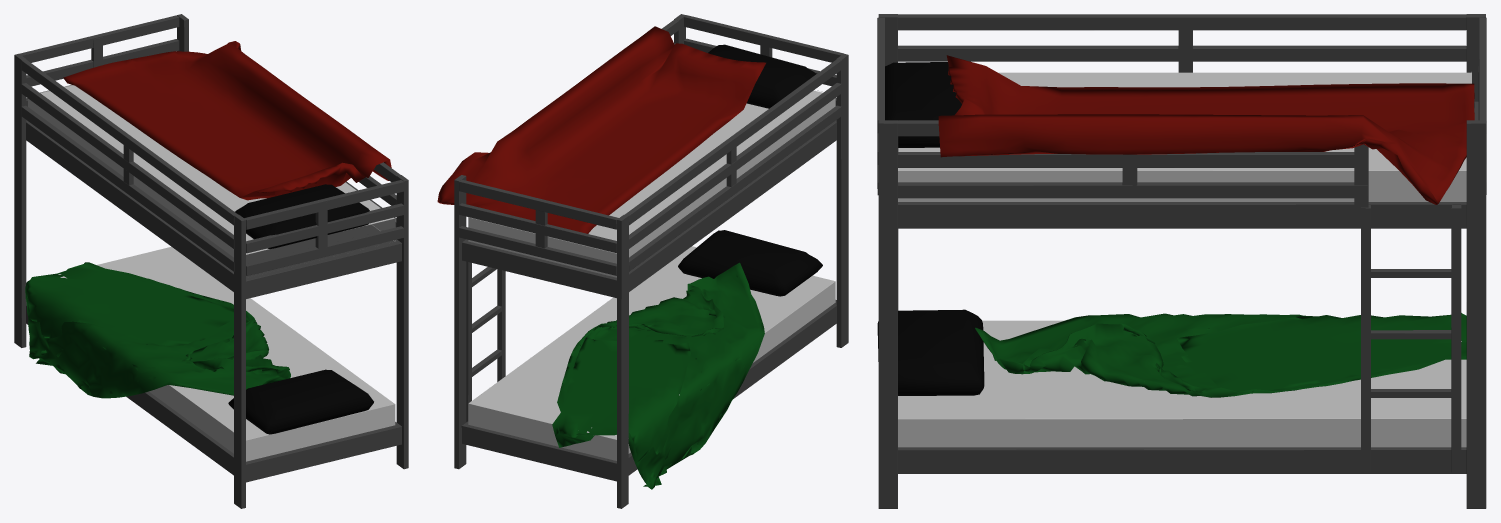
The model's file is couvertures.glb.
3 views of the same model, side by side, from view 1: azimuth 30°, elevation 25°; view 2: azimuth 150°, elevation 25°; view 3: azimuth 270°, elevation 25° (orthographic). The views are drawn at different scales.
Visible parts, largest first — view 1: Beds.003, Plane, Plane.003, Beds.001, Beds.002, Bed_Material #87_0.002, Bed_Material #87_0.001; view 2: Beds.003, Plane, Plane.003, Beds.001, Beds.002, Bed_Material #87_0.002, Bed_Material #87_0.001; view 3: Beds.003, Plane, Beds.001, Plane.003, Beds.002, Bed_Material #87_0.002, Bed_Material #87_0.001.
Part boxes in pixels (bbox=[...]): Beds.003: bbox=[14, 14, 408, 508]; Plane: bbox=[63, 41, 391, 200]; Plane.003: bbox=[25, 262, 290, 398]; Beds.001: bbox=[58, 246, 394, 453]; Beds.002: bbox=[28, 85, 394, 257]; Bed_Material #87_0.002: bbox=[228, 369, 373, 434]; Bed_Material #87_0.001: bbox=[235, 184, 369, 248]; Beds.003: bbox=[454, 14, 848, 508]; Plane: bbox=[437, 26, 765, 233]; Plane.003: bbox=[552, 262, 764, 489]; Beds.001: bbox=[468, 246, 835, 460]; Beds.002: bbox=[468, 90, 835, 277]; Bed_Material #87_0.002: bbox=[678, 230, 822, 296]; Bed_Material #87_0.001: bbox=[708, 44, 815, 108]; Beds.003: bbox=[877, 14, 1486, 508]; Plane: bbox=[938, 55, 1474, 204]; Beds.001: bbox=[898, 320, 1466, 447]; Plane.003: bbox=[975, 313, 1466, 397]; Beds.002: bbox=[898, 72, 1471, 201]; Bed_Material #87_0.002: bbox=[877, 309, 984, 395]; Bed_Material #87_0.001: bbox=[885, 62, 961, 147].
Size of what is drawn, in the model's own units: 1.1 by 1.45 by 2.04.
